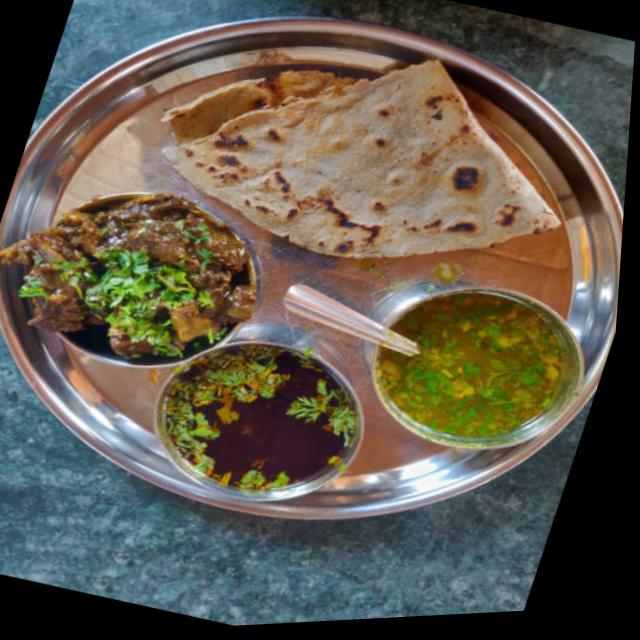CHAPATHI: (161, 48, 568, 249)
CURRY: (26, 194, 240, 357)
RASAM: (379, 283, 577, 446), (153, 342, 358, 494)
